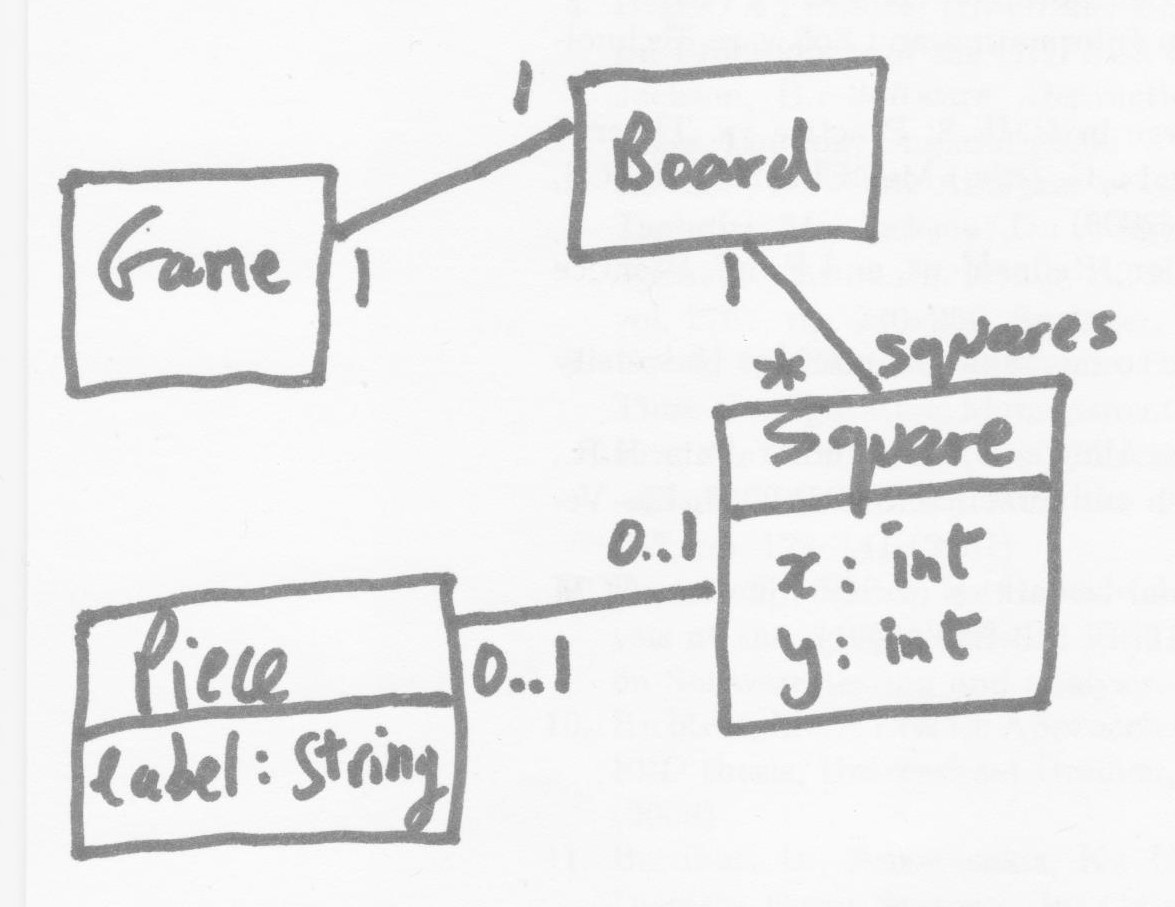association: (694, 248, 1133, 396), (330, 52, 576, 314), (456, 507, 721, 709)
class attributes: (710, 369, 1076, 743), (68, 567, 472, 864)
simple class: (561, 52, 889, 264), (54, 163, 339, 400)
